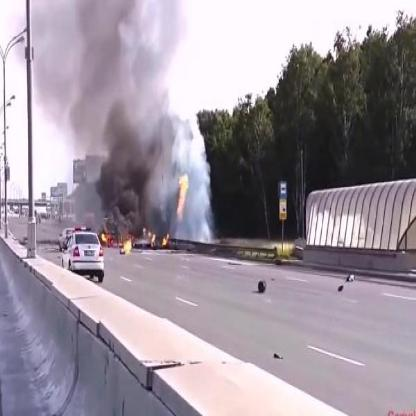fire: (100, 227, 134, 256), (174, 171, 191, 220), (141, 223, 170, 251)
